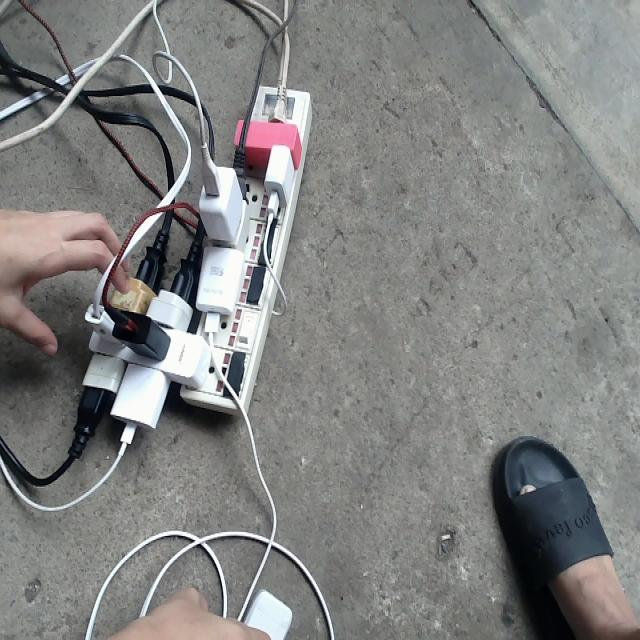-: (71, 77, 313, 468)
